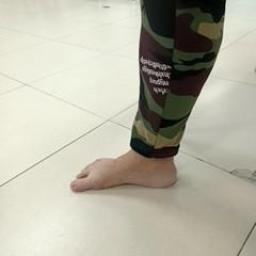Medial View -Right Foot-: (58, 117, 195, 205)
